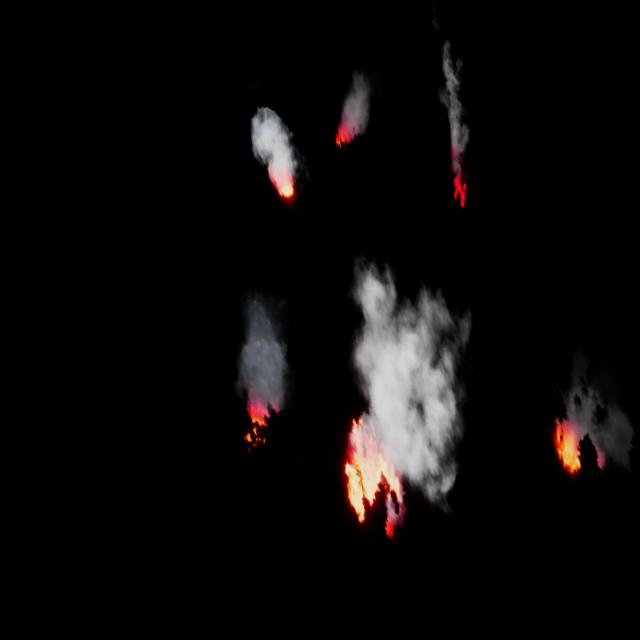fire: (328, 408, 421, 564), (545, 402, 609, 486), (233, 389, 285, 457), (441, 144, 476, 207), (272, 172, 300, 214), (331, 116, 358, 148)
smoke: (308, 234, 526, 530), (401, 0, 496, 169), (550, 334, 640, 480), (214, 283, 310, 413), (239, 94, 306, 189), (330, 55, 391, 136)
